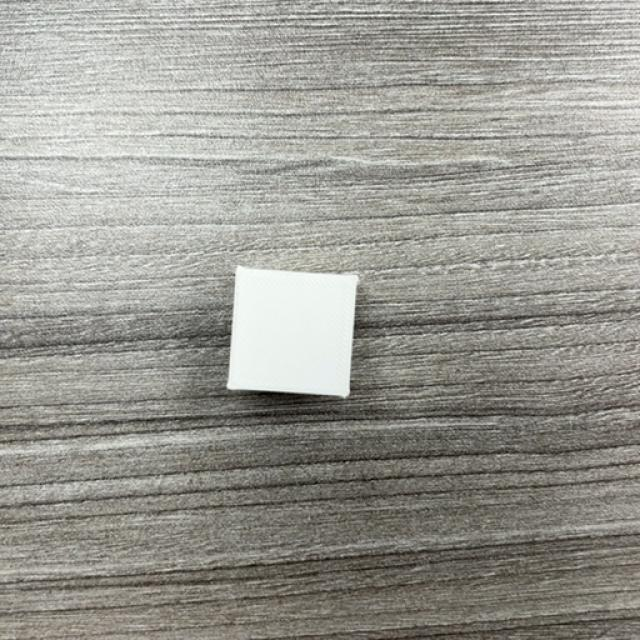Blanco: (225, 266, 358, 399)
